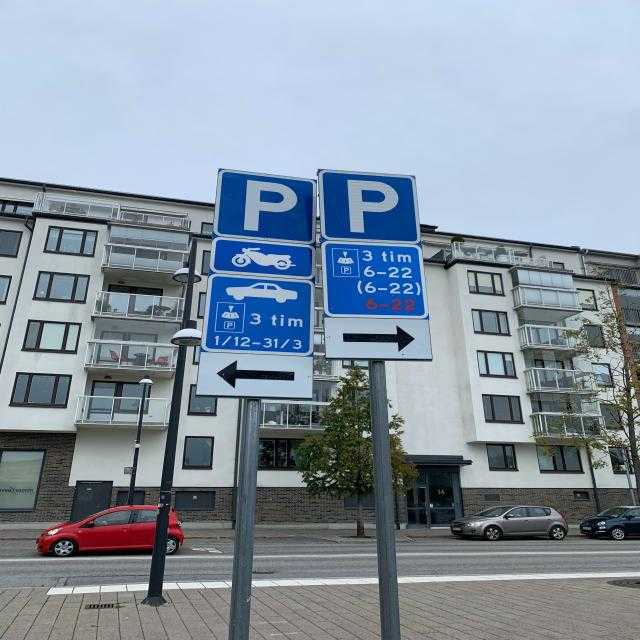psign: (216, 169, 318, 243), (320, 170, 418, 242)
